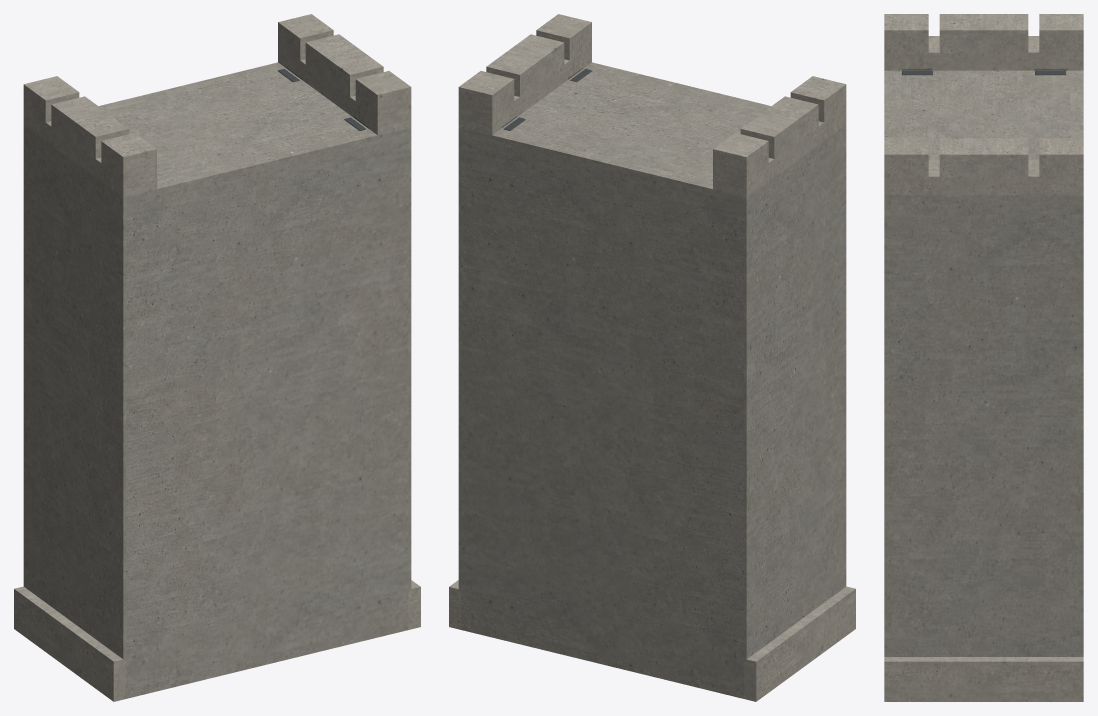
Rendered from half-bay.glb.
The picture shows the model from 3 angles, left to right: view 1: azimuth 30°, elevation 25°; view 2: azimuth 150°, elevation 25°; view 3: azimuth 270°, elevation 25°; orthographic projection.
Parts seen in each view (by area): view 1: half-bay-geometry0, half-bay-geometry1; view 2: half-bay-geometry0, half-bay-geometry1; view 3: half-bay-geometry0, half-bay-geometry1.
Boxes of the visible parts, box(x1,y1,x2,y2) form: half-bay-geometry0: box(16, 16, 417, 697); half-bay-geometry1: box(14, 14, 420, 701); half-bay-geometry0: box(452, 16, 848, 696); half-bay-geometry1: box(449, 14, 855, 701); half-bay-geometry0: box(887, 15, 1080, 692); half-bay-geometry1: box(884, 14, 1083, 701).
Bounding box in the file's own units: 32 × 54 × 18.
5 materials, 5 textured.
